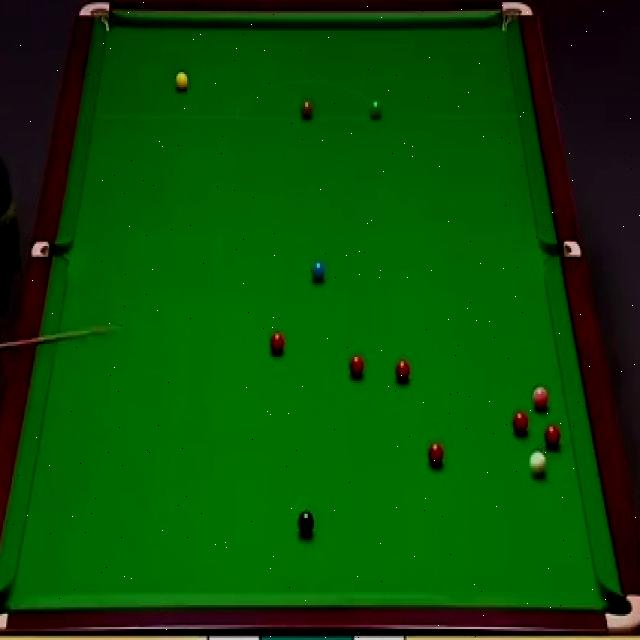black-ball: (296, 510, 316, 536)
blue-ball: (312, 260, 325, 284)
brown-ball: (300, 101, 314, 120)
green-ball: (370, 98, 382, 120)
pink-ball: (532, 384, 550, 412)
red-ball: (426, 441, 444, 468), (395, 356, 412, 383), (348, 354, 364, 379), (545, 422, 560, 448), (512, 412, 529, 434), (270, 329, 285, 353)
white-ball: (463, 461, 480, 491)
yellow-ball: (174, 72, 190, 95)
